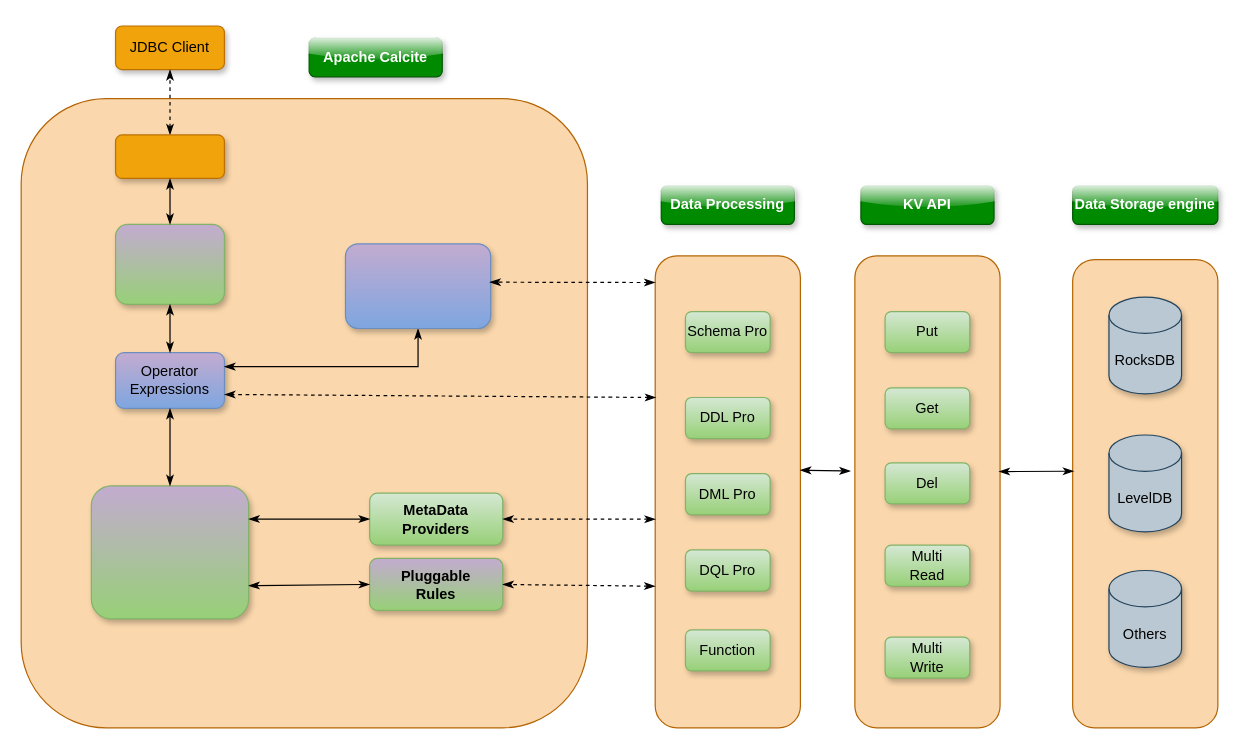
Some shapes in this 1246 by 749 pixel diagram are drawn without their labels. The shapes that lost their labels are listed below. From the top down, each one's centre as x and y in pixels, then its label:
At pixel 171 158: "JDBC Server".
At pixel 171 265: "SQL Parser and Vaildator".
At pixel 418 287: "Expressions Builder".
At pixel 170 553: "Query Optimizer".
